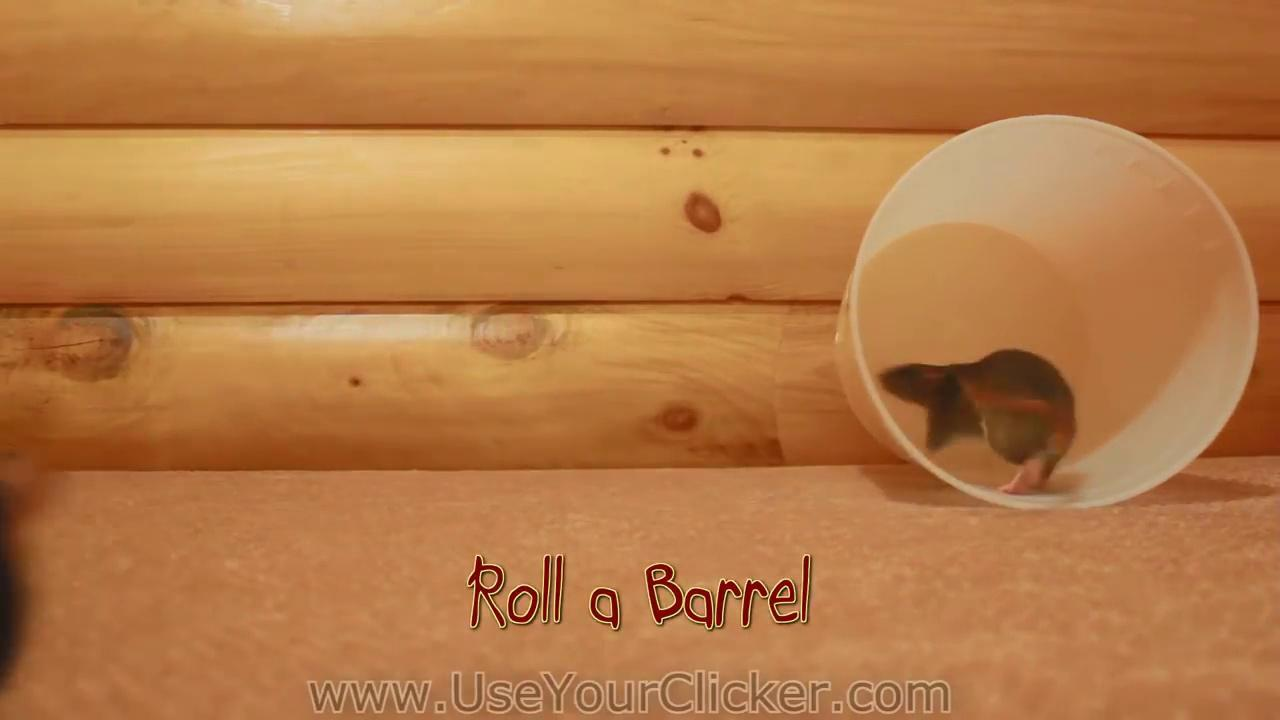rat: (878, 348, 1076, 494)
